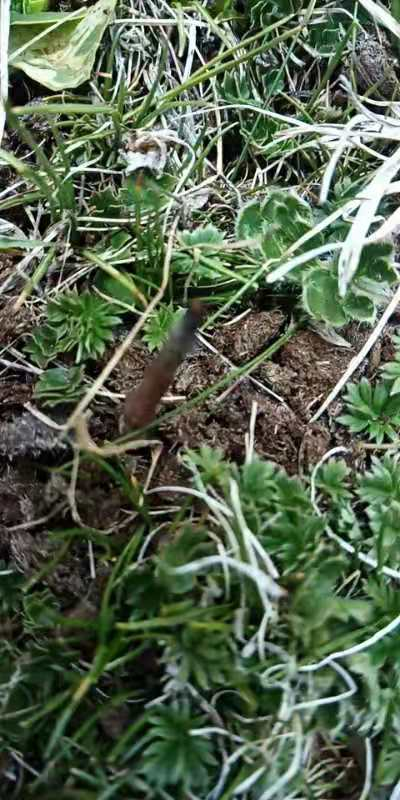Chongcao: (124, 298, 205, 423)
